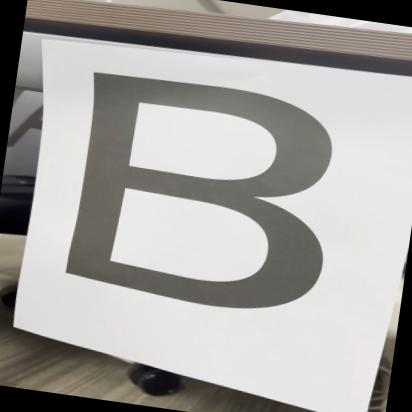seat: (41, 56, 394, 342)
